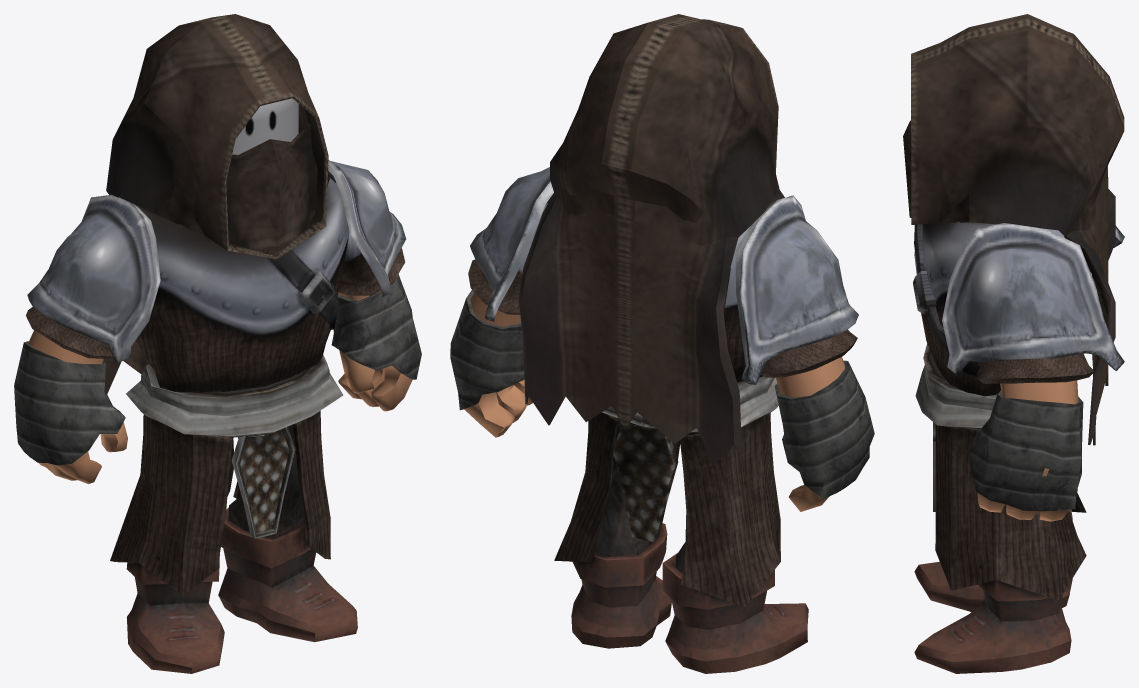
File: bundle_2015_medieval_thief.obj
3 views of the same model, side by side, from view 1: azimuth 30°, elevation 25°; view 2: azimuth 150°, elevation 25°; view 3: azimuth 270°, elevation 25° (orthographic). The views are drawn at different scales.
Parts seen in each view (by area): view 1: Bundle2015medievalthief5, Handle1, Bundle2015medievalthief3, Bundle2015medievalthief1, Bundle2015medievalthief2, Bundle2015medievalthief4, Bundle2015medievalthief6; view 2: Handle1, Bundle2015medievalthief3, Bundle2015medievalthief1, Bundle2015medievalthief2, Bundle2015medievalthief4, Bundle2015medievalthief5; view 3: Handle1, Bundle2015medievalthief4, Bundle2015medievalthief2, Bundle2015medievalthief5, Bundle2015medievalthief1.
Boxes of the visible parts, bbox=[...] form: Bundle2015medievalthief5: bbox=[118, 177, 349, 538]; Handle1: bbox=[103, 14, 329, 393]; Bundle2015medievalthief3: bbox=[14, 194, 160, 484]; Bundle2015medievalthief1: bbox=[110, 414, 233, 673]; Bundle2015medievalthief2: bbox=[218, 411, 357, 642]; Bundle2015medievalthief4: bbox=[328, 160, 421, 411]; Bundle2015medievalthief6: bbox=[232, 98, 298, 154]; Handle1: bbox=[519, 14, 779, 465]; Bundle2015medievalthief3: bbox=[735, 195, 874, 511]; Bundle2015medievalthief1: bbox=[662, 413, 808, 673]; Bundle2015medievalthief2: bbox=[554, 412, 680, 648]; Bundle2015medievalthief4: bbox=[450, 167, 553, 437]; Bundle2015medievalthief5: bbox=[602, 189, 784, 542]; Handle1: bbox=[903, 14, 1124, 445]; Bundle2015medievalthief4: bbox=[942, 223, 1124, 521]; Bundle2015medievalthief2: bbox=[914, 424, 1086, 673]; Bundle2015medievalthief5: bbox=[913, 221, 1071, 511]; Bundle2015medievalthief1: bbox=[914, 493, 1086, 611].
Bounding box in the file's own units: 3.63 × 5.44 × 1.82.
Materials: 1 (1 with a texture image).
